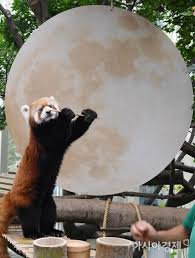redPanda: (0, 87, 104, 251)
